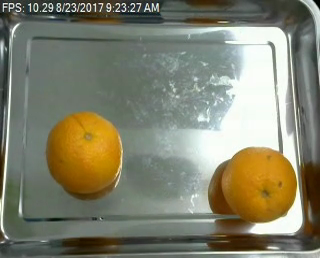Orange: (46, 110, 122, 194), (221, 146, 296, 222)
